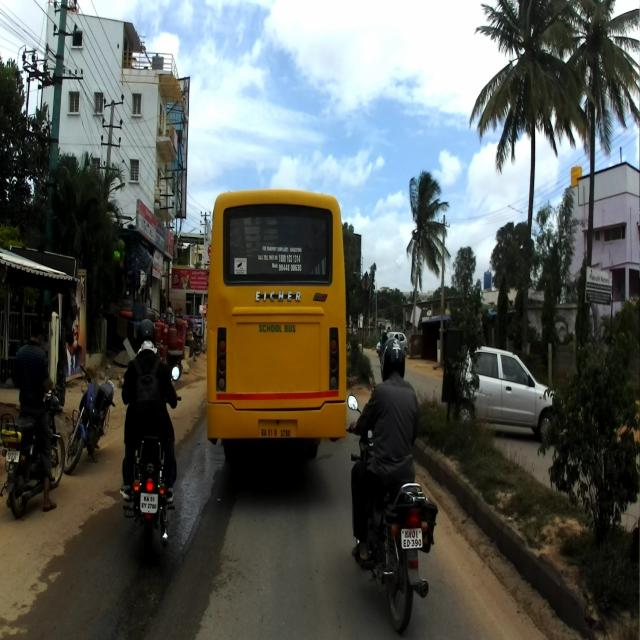bus: (205, 186, 348, 477)
car: (456, 345, 558, 448)
motorcycle: (346, 391, 439, 638), (120, 360, 180, 556), (0, 382, 66, 524), (62, 363, 116, 474)
